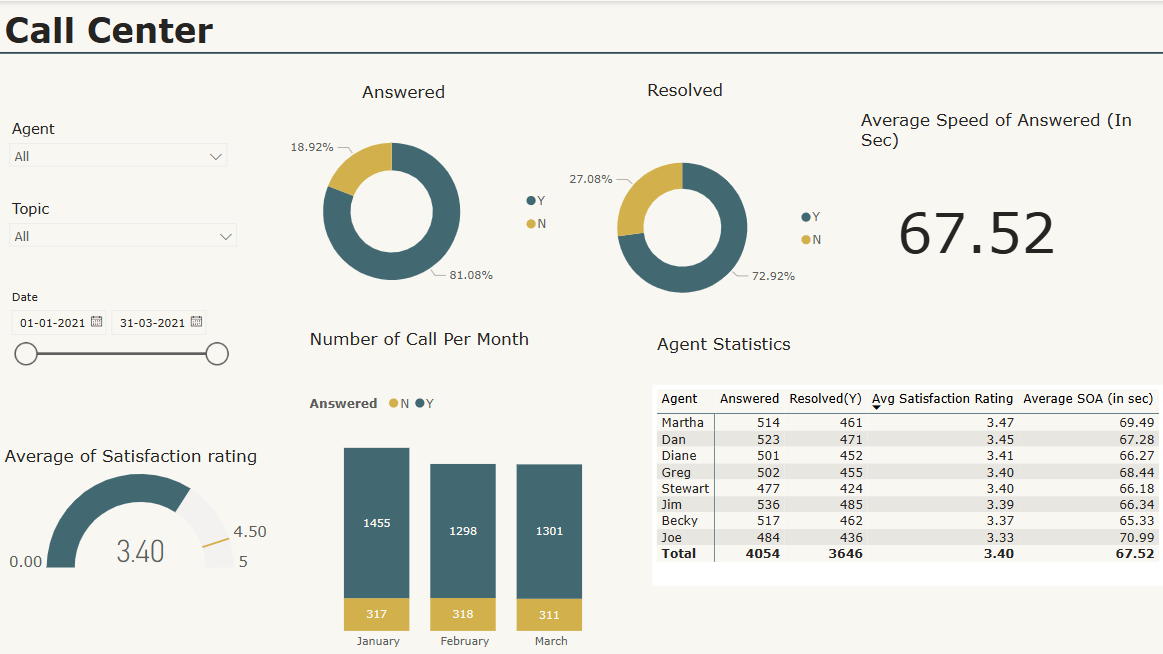

This screenshot's page, from the dashboard's own definition file:
{"tool":"powerbi","page":{"name":"Page 1","canvas":[1280,720],"ordinal":0},"visuals":[{"type":"slicer","fields":{"Values":["Sheet1 (2).Agent"]},"box":[0,124.9,259.3,91.9],"z":0},{"type":"slicer","fields":{"Values":["Sheet1 (2).Topic"]},"box":[0,212.7,270.3,74.1],"z":1000},{"type":"gauge","title":"Average of Satisfaction  rating","fields":{"Y":["Sheet1 (2).Satisfaction rating"],"MaxValue":["Sheet1 (2).Satisfaction rating"]},"box":[0,487.1,301.9,149.6],"z":2000},{"type":"donutChart","fields":{"Category":["Sheet1 (2).Answered (Y/N)"],"Y":["Sheet1 (2).Answered (Y/N)"]},"box":[278.6,123.5,336.2,215.4],"z":3000},{"type":"donutChart","fields":{"Category":["Sheet1 (2).Resolved"],"Y":["Sheet1 (2).Resolved"]},"box":[614.8,144.1,301.9,209.9],"z":4000},{"type":"card","fields":{"Values":["Sheet1 (2).Speed of answer in seconds"]},"box":[953.7,188,237.4,124.9],"z":5000},{"type":"columnChart","fields":{"Category":["Sheet1 (2).Date.Variation.Date Hierarchy.Month"],"Y":["Sheet1 (2).Answered (Y/N)"],"Series":["Sheet1 (2).Answered (Y/N)"]},"box":[334.8,421.3,351.3,299.1],"z":6000},{"type":"pivotTable","fields":{"Rows":["Sheet1 (2).Agent"],"Values":["Sheet1 (2).Answered","Sheet1 (2).Resolved(Y)","Sheet1 (2).Satisfaction rating","Sheet1 (2).Speed of answer in seconds"]},"box":[716.3,421.3,564,220.9],"z":6001},{"type":"textbox","box":[392.5,83.7,144.1,37],"z":6002},{"type":"textbox","box":[705.3,81,120.8,42.5],"z":6003},{"type":"textbox","box":[940,113.9,340.3,57.6],"z":6004},{"type":"textbox","box":[334.8,354,279.9,43.9],"z":6005},{"type":"textbox","box":[716.3,359.5,237.4,38.4],"z":6006},{"type":"textbox","box":[0,4.1,301.9,65.9],"z":6007},{"type":"slicer","fields":{"Values":["Sheet1 (2).Date"]},"box":[0,312.9,259.3,91.9],"z":6008},{"type":"shape","box":[0,0,1280.3,113.9],"z":6009}]}

Visuals, with their boxes in screenshot pixels (x1, y1, x2, y2), scaled from the page's 1280x720 canvas onto the 1163x654 screenshot:
slicer - Sheet1 (2).Agent: BBox(0, 113, 236, 197)
slicer - Sheet1 (2).Topic: BBox(0, 193, 246, 261)
"Average of Satisfaction  rating" gauge: BBox(0, 442, 274, 578)
donutChart - Sheet1 (2).Answered (Y/N) x Sheet1 (2).Answered (Y/N): BBox(253, 112, 559, 308)
donutChart - Sheet1 (2).Resolved x Sheet1 (2).Resolved: BBox(559, 131, 833, 322)
card - Sheet1 (2).Speed of answer in seconds: BBox(867, 171, 1082, 284)
columnChart - Sheet1 (2).Date.Variation.Date Hierarchy.Month x Sheet1 (2).Answered (Y/N): BBox(304, 383, 623, 653)
pivotTable - Sheet1 (2).Agent x Sheet1 (2).Answered: BBox(651, 383, 1162, 583)
textbox: BBox(357, 76, 488, 110)
textbox: BBox(641, 74, 751, 112)
textbox: BBox(854, 103, 1162, 156)
textbox: BBox(304, 322, 559, 361)
textbox: BBox(651, 327, 867, 361)
textbox: BBox(0, 4, 274, 64)
slicer - Sheet1 (2).Date: BBox(0, 284, 236, 368)
shape: BBox(0, 0, 1162, 103)
